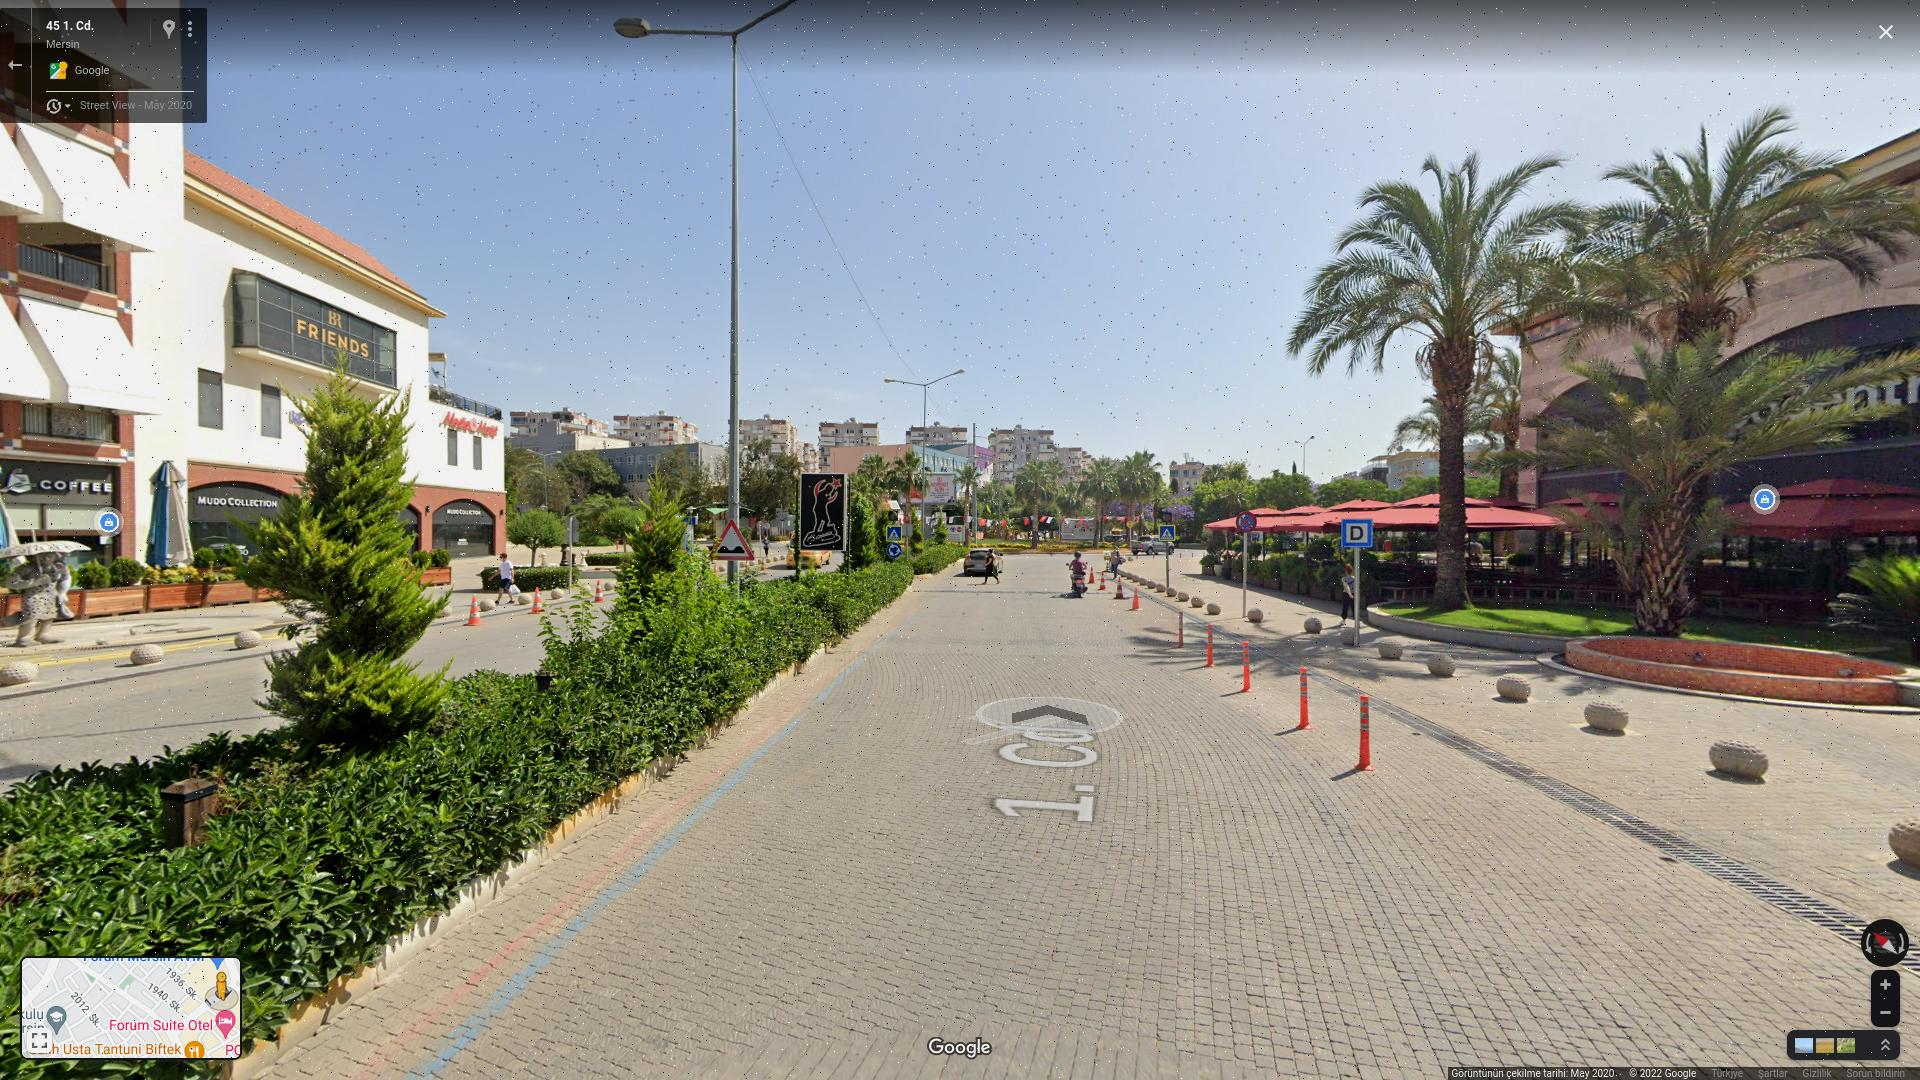station: (1344, 520, 1373, 546)
